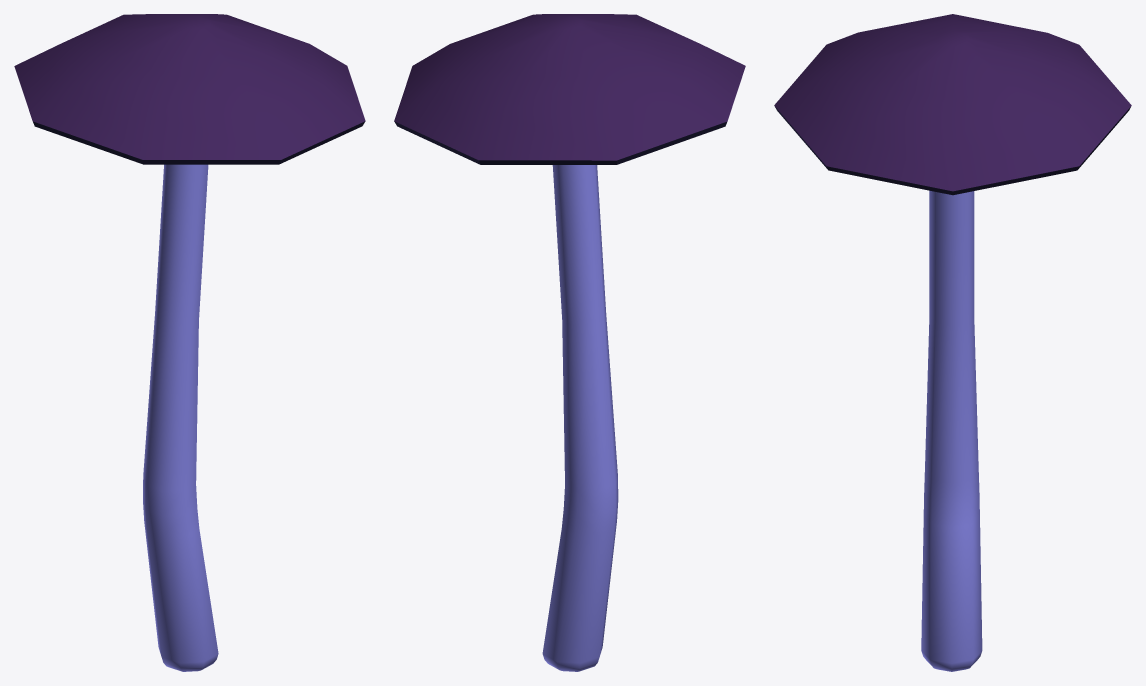
Rendered from SingleMushroom.FBX.
The picture shows the model from 3 angles, left to right: view 1: azimuth 30°, elevation 25°; view 2: azimuth 150°, elevation 25°; view 3: azimuth 270°, elevation 25°; orthographic projection.
Parts seen in each view (by area): view 1: Cylinder001; view 2: Cylinder001; view 3: Cylinder001.
Boxes of the visible parts, bbox=[...] form: Cylinder001: bbox=[14, 14, 365, 671]; Cylinder001: bbox=[394, 14, 745, 671]; Cylinder001: bbox=[774, 14, 1131, 671].
Bounding box in the file's own units: 85.96 × 167 × 86.13.
